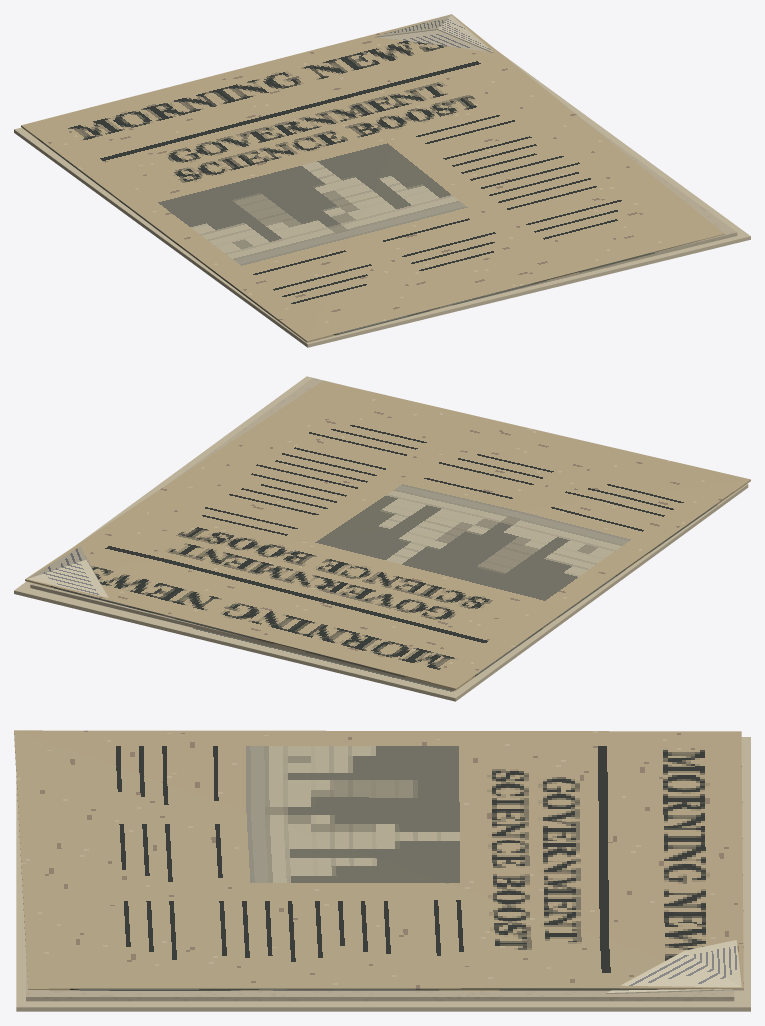
The model's file is years_old_newspaper.glb.
The picture shows the model from 3 angles, top to bottom: view 1: azimuth 30°, elevation 25°; view 2: azimuth 150°, elevation 25°; view 3: azimuth 270°, elevation 25°; orthographic projection. The views are drawn at different scales.
Visible parts, largest first — view 1: block_front page, block_lower fold, block_creased top corner, block_interior edges; view 2: block_front page, block_lower fold, block_interior edges, block_creased top corner; view 3: block_front page, block_lower fold, block_interior edges, block_creased top corner.
Boxes of the visible parts, x1=… form: block_front page: x1=21, y1=14, x2=724, y2=342; block_lower fold: x1=14, y1=50, x2=750, y2=347; block_creased top corner: x1=374, y1=15, x2=493, y2=52; block_interior edges: x1=468, y1=120, x2=737, y2=301; block_front page: x1=25, y1=380, x2=750, y2=690; block_lower fold: x1=14, y1=376, x2=748, y2=701; block_interior edges: x1=30, y1=378, x2=454, y2=691; block_creased top corner: x1=27, y1=546, x2=108, y2=597; block_front page: x1=14, y1=730, x2=743, y2=990; block_lower fold: x1=16, y1=737, x2=750, y2=1011; block_interior edges: x1=26, y1=952, x2=734, y2=1001; block_creased top corner: x1=606, y1=940, x2=743, y2=994.
Size of the model in its own units: 0.271 by 0.0152 by 0.311.
1 material, 1 textured.
